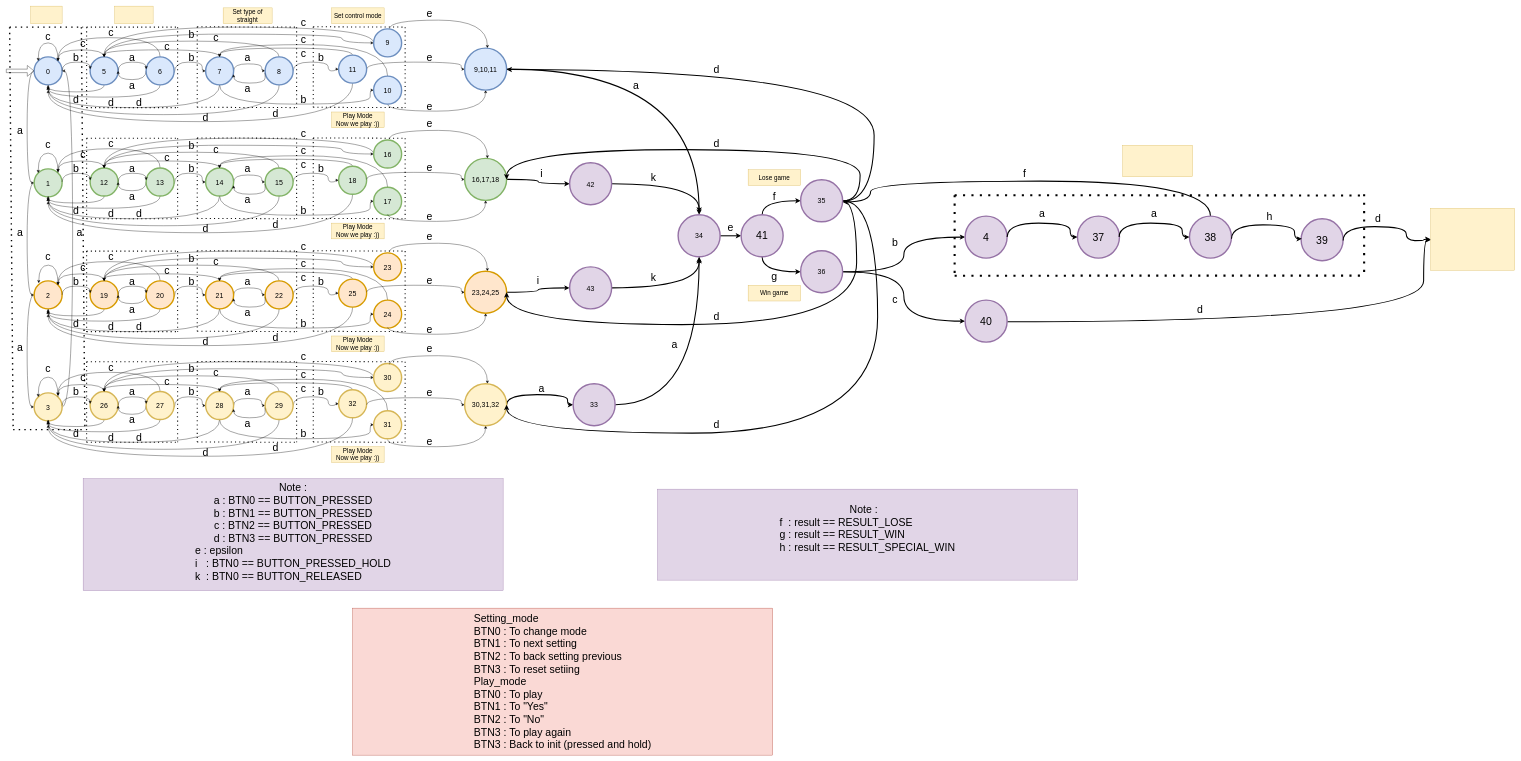
The diagram is 1521 pixels wide and 761 high, and some of its shapes have lost their labels. The centre of each missing label's shape, as x and y in pixels:
"Play agian like state 35" goes at (1472,239).
"Set Mode" goes at (46,15).
"Set straight" goes at (133,15).
"Special mode" goes at (1157,161).
